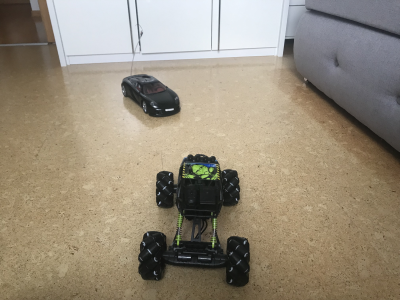remote control car: (136, 153, 251, 288)
